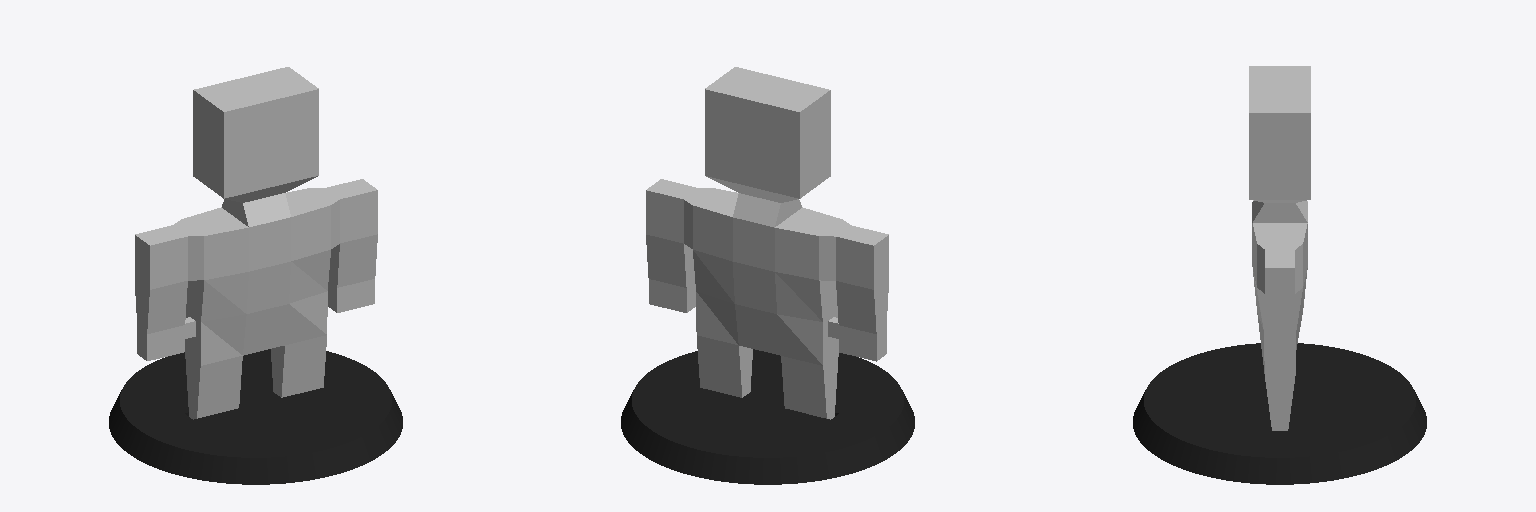
File: bastl.obj
The picture shows the model from 3 angles: view 1: azimuth 30°, elevation 25°; view 2: azimuth 150°, elevation 25°; view 3: azimuth 270°, elevation 25°; orthographic projection.
Parts seen in each view (by area): view 1: kBert_Cube, Cylinder_Cylinder.001; view 2: kBert_Cube, Cylinder_Cylinder.001; view 3: Cylinder_Cylinder.001, kBert_Cube.
Boxes of the visible parts, x1,y1,x2,y2 form: kBert_Cube: [135, 67, 377, 419]; Cylinder_Cylinder.001: [109, 349, 402, 484]; kBert_Cube: [646, 67, 888, 419]; Cylinder_Cylinder.001: [621, 349, 914, 484]; Cylinder_Cylinder.001: [1133, 343, 1426, 484]; kBert_Cube: [1249, 66, 1310, 430].
Size of the model in its own units: 6.21 by 7.73 by 6.21.